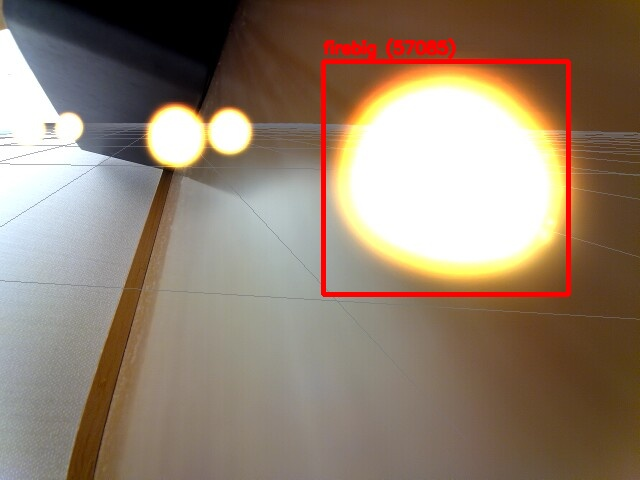firebig: (323, 61, 568, 294)
